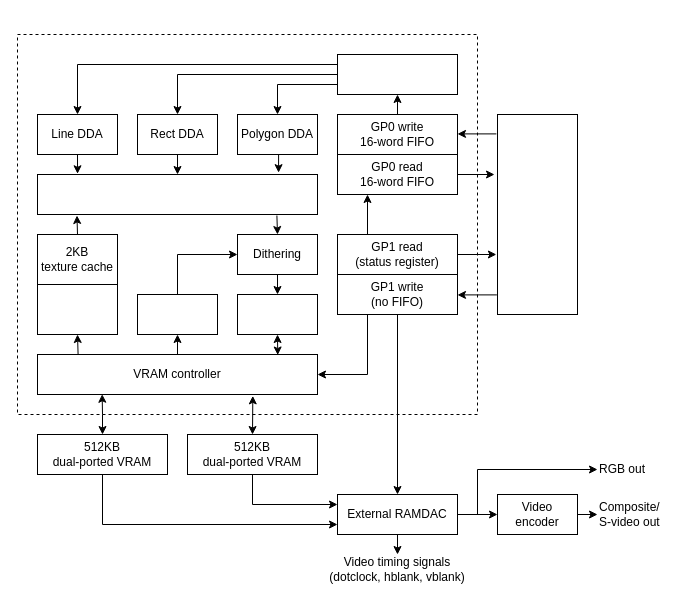
The diagram is 685 pixels wide and 602 high, and some of its shapes have lost their labels. The shapes that lost their labels are listed below. From the top down, each one's box as (x1, y1, x2, y2) in pixels, then its label:
(336, 54, 458, 94): Command parser & attribute registers
(36, 174, 318, 214): Shading & modulation (with bugs)
(496, 114, 578, 314): CPU (via 32-bit GPU bus)
(16, 34, 478, 414): GPU (v0)
(36, 284, 118, 334): 512-byte CLUT cache
(136, 294, 218, 334): Blending
(236, 294, 318, 334): Masking
